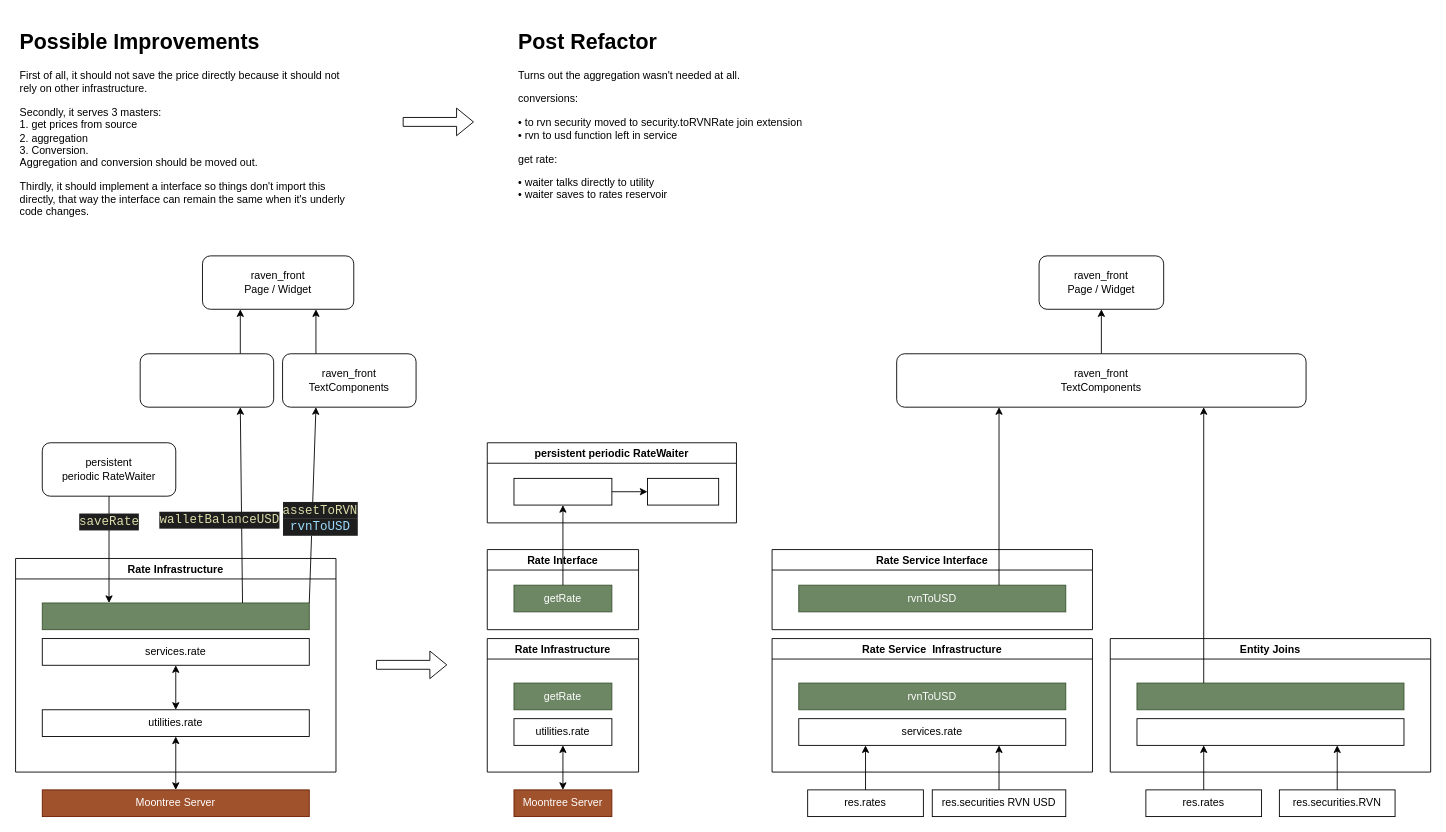
Some shapes in this 1446 by 832 pixel diagram are drawn without their labels. Each missing label, with the centre of its shape:
method(s): (175,616)
periodically get: (562,491)
raven_front Current lookup module: (206,380)
res.save: (683,491)
Security: (1270,731)
toRVNRate: (1270,696)
